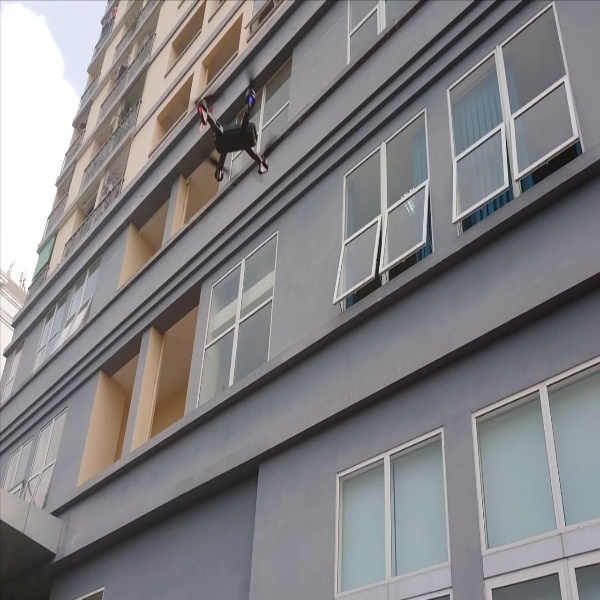drone: (187, 72, 280, 182)
